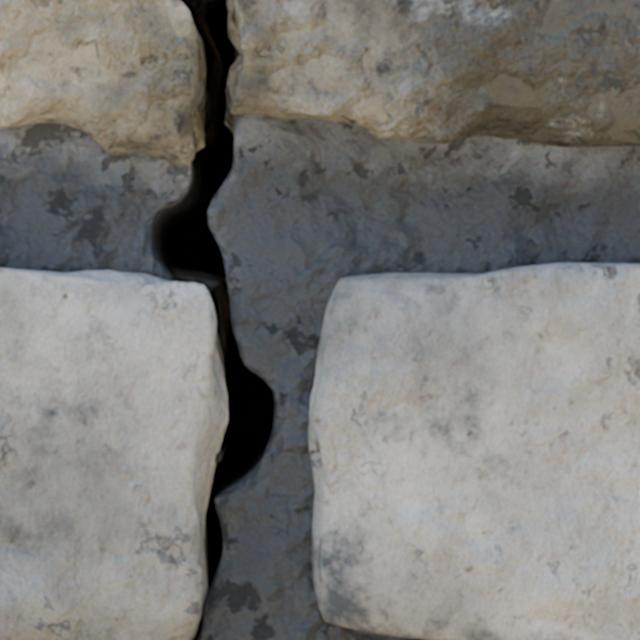broken_brick: (234, 0, 639, 146), (0, 0, 196, 166)
crack: (0, 0, 279, 639), (308, 263, 639, 639)
